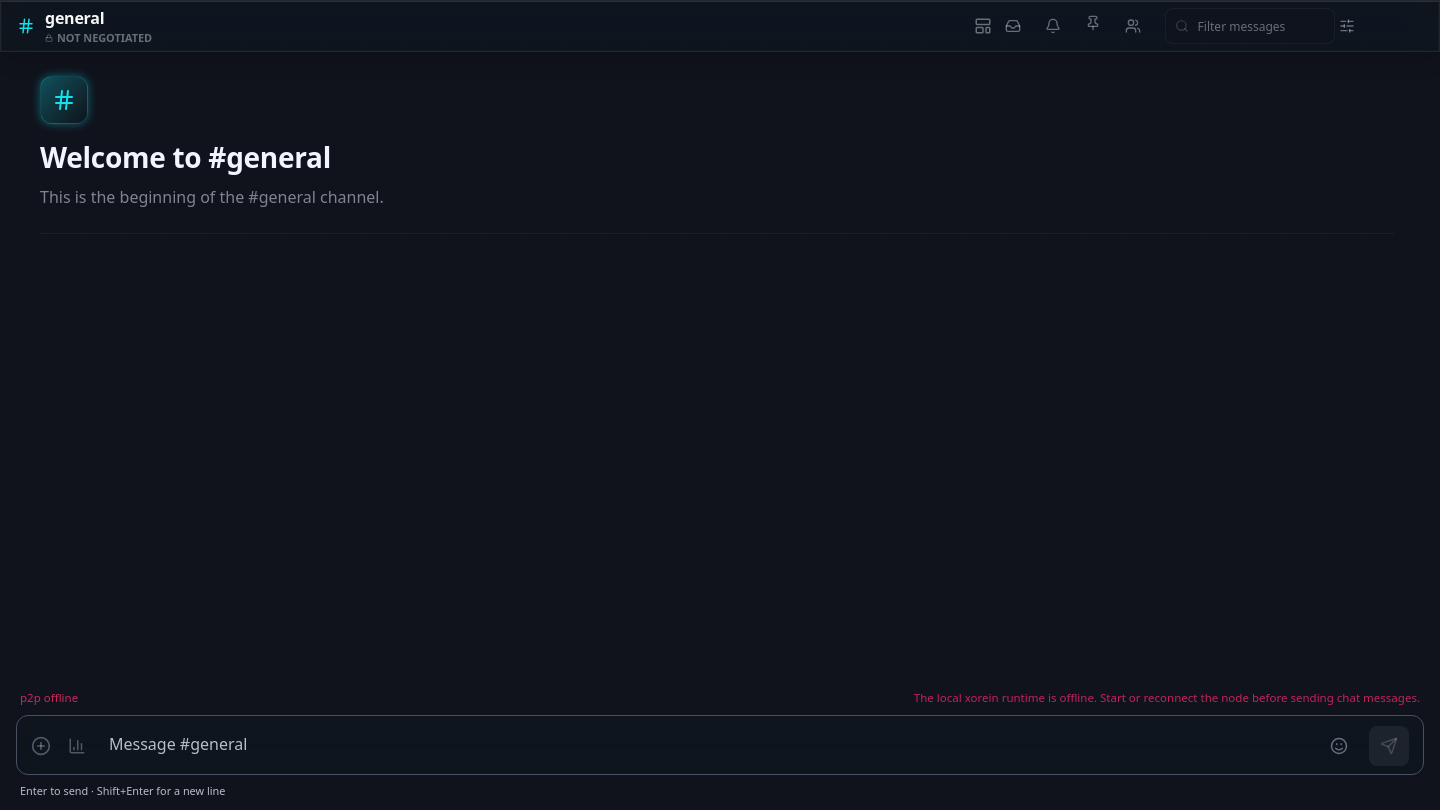
Test: ChatArea › dedupes duplicate users before mention autocomplete renders suggestions
Type "@dup" into the text box named "Message Input" at (705, 745), box [101,722,1309,768]
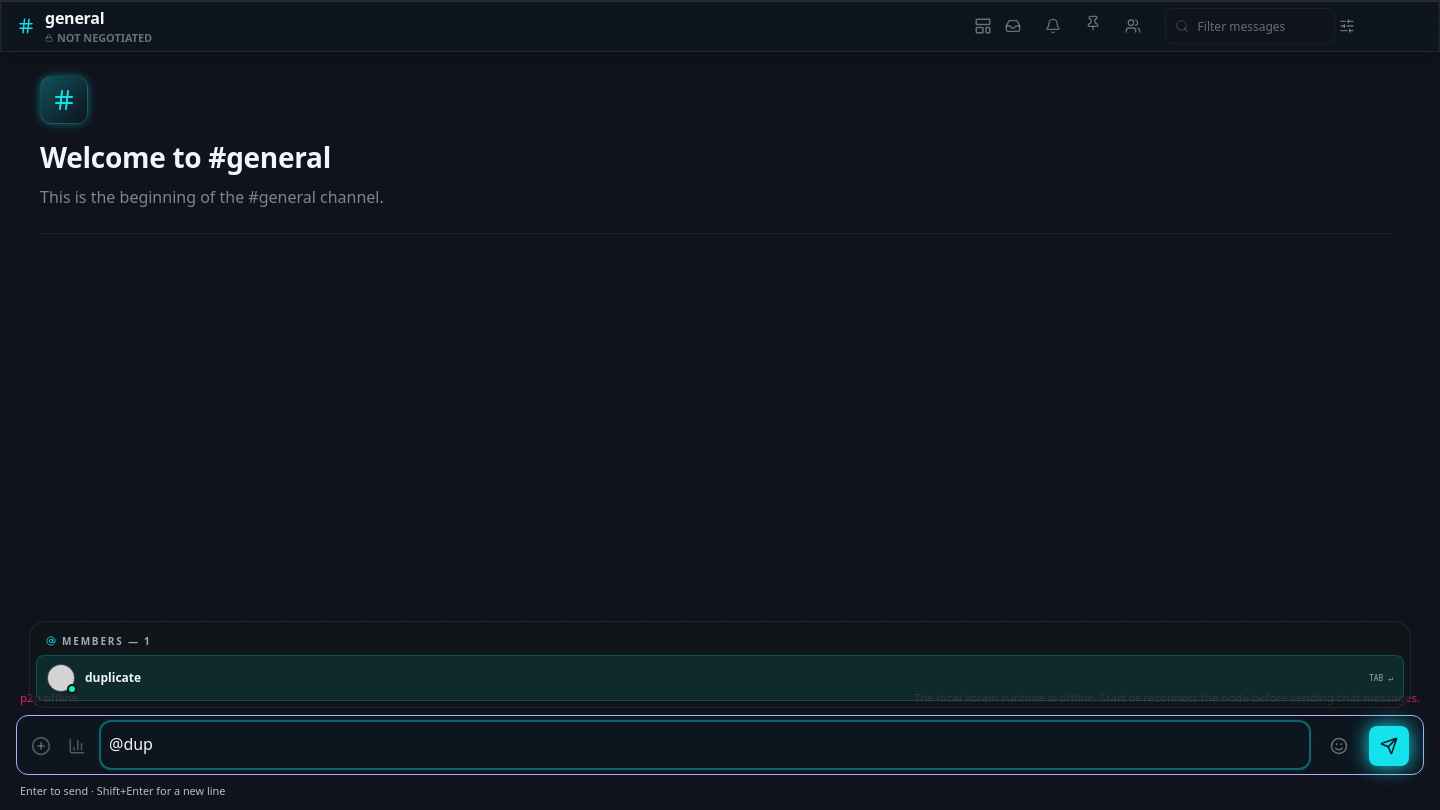
Expected: the number of options "duplicate TAB ↵" is 1, [36,655,1404,701]
Expected: the text "MEMBERS — 1" is shown, [46,634,152,648]
